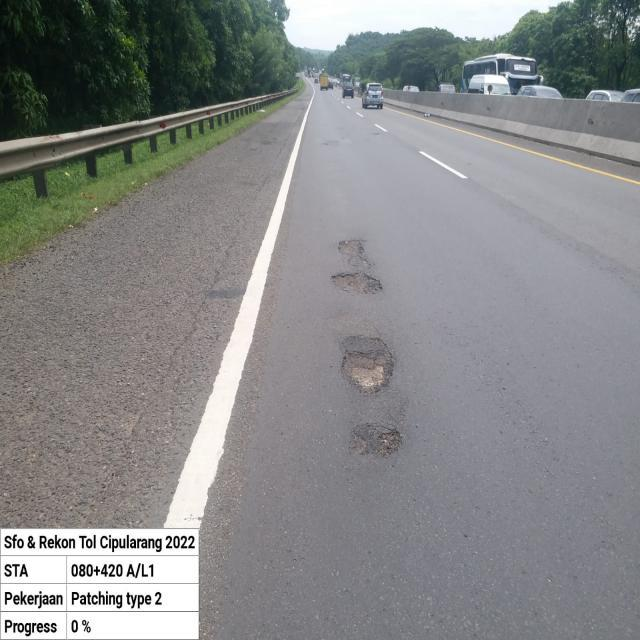Buraco: (338, 335, 399, 397), (328, 237, 386, 296), (369, 424, 405, 461), (345, 429, 371, 458)
